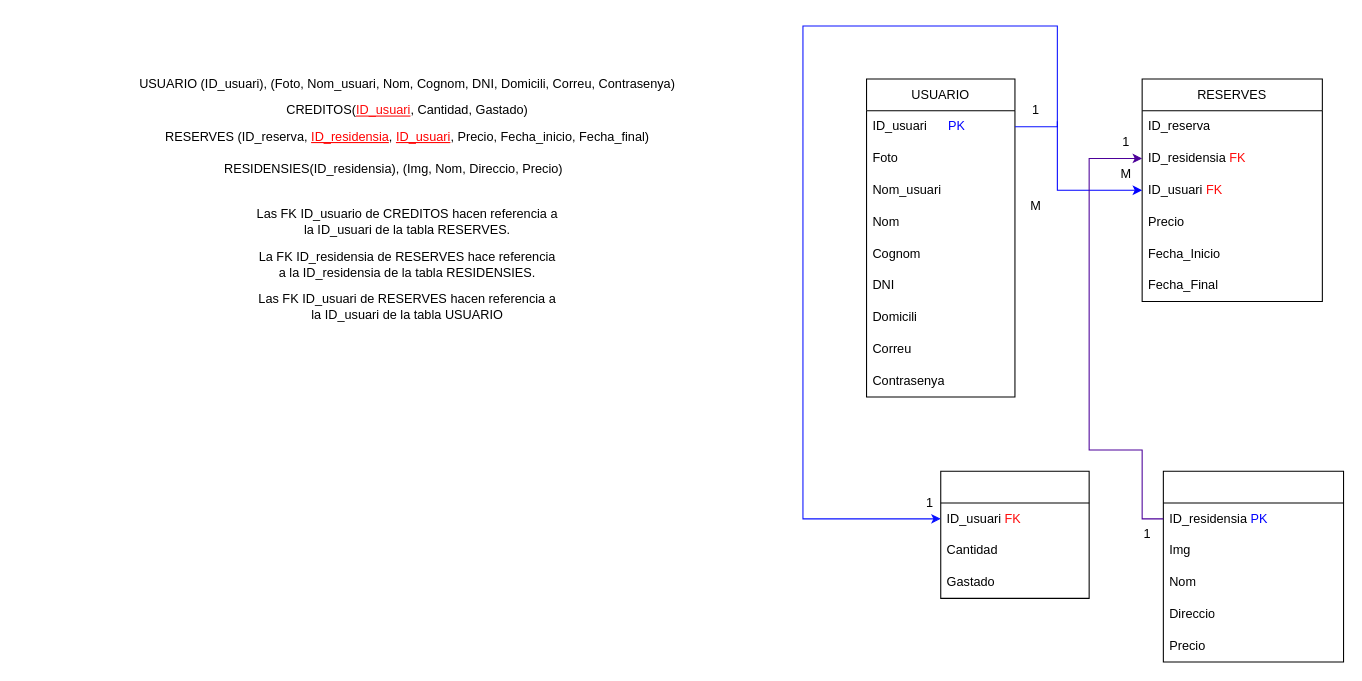
Image size: 1362x681. Some labels were removed from this diagram. Each missing label, with the box of its shape:
CREDITOS: (940, 470, 1089, 598)
RESIDENSIES: (1162, 470, 1344, 662)
